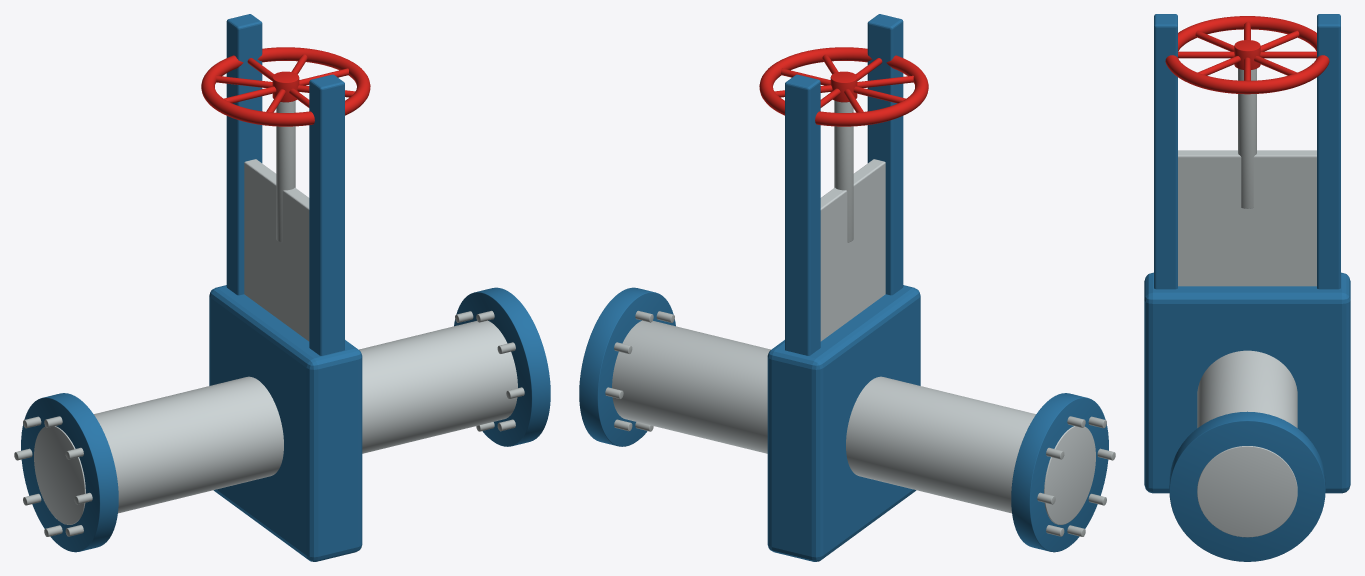
The model's file is knife_gate_valve.glb.
The picture shows the model from 3 angles, left to right: view 1: azimuth 30°, elevation 25°; view 2: azimuth 150°, elevation 25°; view 3: azimuth 270°, elevation 25°; orthographic projection.
Parts seen in each view (by area): view 1: PIPE, WAFER_BODY, YOKE_-0.34, KIN_GATE_BLADE, FLANGE_IN, YOKE_0.34, FLANGE_OUT, KIN_HANDWHEEL, STEM; view 2: PIPE, WAFER_BODY, YOKE_0.34, KIN_GATE_BLADE, FLANGE_IN, YOKE_-0.34, FLANGE_OUT, KIN_HANDWHEEL, STEM; view 3: WAFER_BODY, KIN_GATE_BLADE, PIPE, FLANGE_OUT, YOKE_0.34, YOKE_-0.34, KIN_HANDWHEEL, STEM, HANDWHEEL_HUB, SPOKE_90, SPOKE_270, SPOKE_135 (+3 smaller).
Boxes of the visible parts, x1=… form: PIPE: x1=34, y1=320, x2=517, y2=524; WAFER_BODY: x1=209, y1=285, x2=362, y2=561; YOKE_-0.34: x1=309, y1=74, x2=344, y2=355; KIN_GATE_BLADE: x1=244, y1=159, x2=309, y2=341; FLANGE_IN: x1=21, y1=393, x2=118, y2=552; YOKE_0.34: x1=226, y1=14, x2=262, y2=295; FLANGE_OUT: x1=454, y1=287, x2=550, y2=446; KIN_HANDWHEEL: x1=201, y1=47, x2=370, y2=126; STEM: x1=276, y1=100, x2=295, y2=242; PIPE: x1=612, y1=320, x2=1095, y2=524; WAFER_BODY: x1=767, y1=285, x2=920, y2=561; YOKE_0.34: x1=785, y1=74, x2=820, y2=355; KIN_GATE_BLADE: x1=820, y1=159, x2=885, y2=341; FLANGE_IN: x1=1011, y1=393, x2=1108, y2=552; YOKE_-0.34: x1=867, y1=14, x2=903, y2=295; FLANGE_OUT: x1=579, y1=287, x2=675, y2=446; KIN_HANDWHEEL: x1=759, y1=47, x2=928, y2=126; STEM: x1=834, y1=100, x2=853, y2=242; WAFER_BODY: x1=1144, y1=272, x2=1350, y2=493; KIN_GATE_BLADE: x1=1178, y1=150, x2=1316, y2=286; PIPE: x1=1197, y1=350, x2=1297, y2=537; FLANGE_OUT: x1=1169, y1=411, x2=1325, y2=561; YOKE_0.34: x1=1317, y1=14, x2=1340, y2=289; YOKE_-0.34: x1=1154, y1=14, x2=1177, y2=289; KIN_HANDWHEEL: x1=1165, y1=16, x2=1329, y2=94; STEM: x1=1238, y1=68, x2=1256, y2=208; HANDWHEEL_HUB: x1=1234, y1=40, x2=1260, y2=69; SPOKE_90: x1=1260, y1=51, x2=1316, y2=58; SPOKE_270: x1=1178, y1=51, x2=1234, y2=58; SPOKE_135: x1=1260, y1=30, x2=1299, y2=51.
Size of the model in its own units: 2.21 by 2.14 by 0.86.
